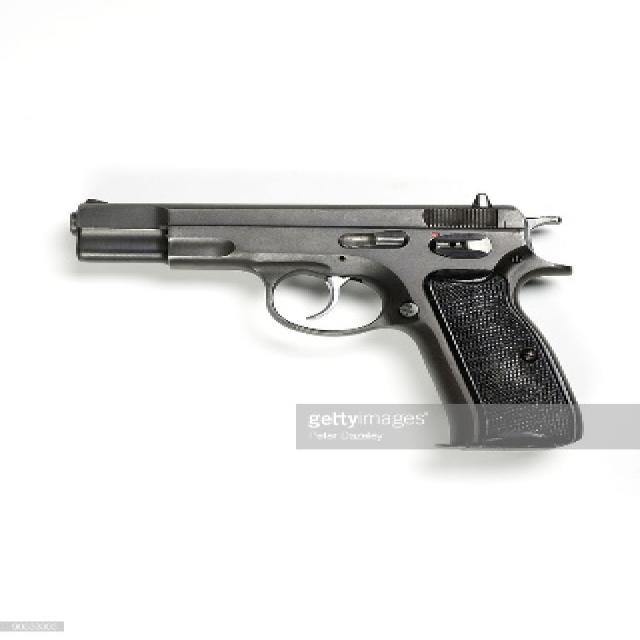handgun: (67, 193, 583, 449)
